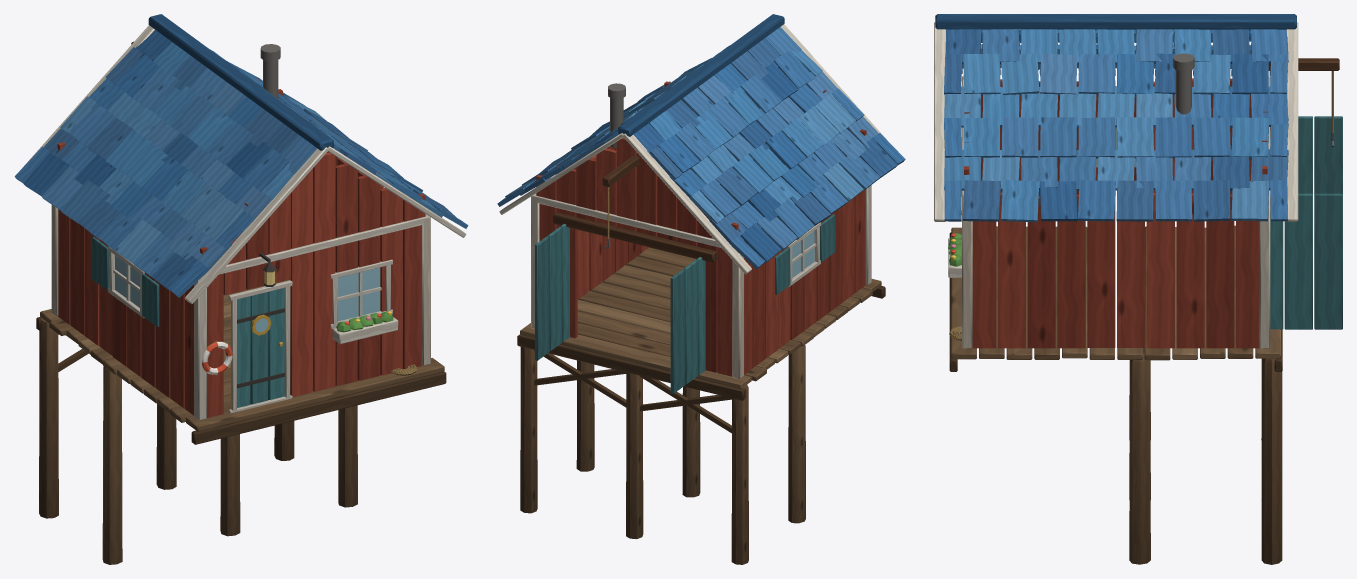
The model's file is ship-house-a.glb.
3 views of the same model, side by side, from view 1: azimuth 30°, elevation 25°; view 2: azimuth 150°, elevation 25°; view 3: azimuth 270°, elevation 25° (orthographic). The views are drawn at different scales.
Visible parts, largest first — view 1: ship-house-a; view 2: ship-house-a; view 3: ship-house-a.
Boxes of the visible parts, x1,y1,x2,y2 form: ship-house-a: [14, 14, 468, 564]; ship-house-a: [497, 14, 905, 564]; ship-house-a: [934, 14, 1342, 564].
Bounding box in the file's own units: 5.22 × 7.88 × 6.04.
5 materials, 2 textured.
